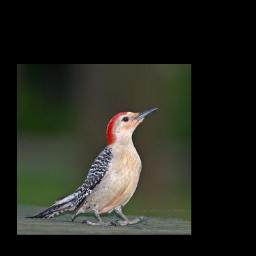Woodpecker: (25, 105, 161, 227)
